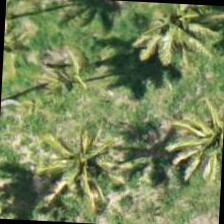Kelapa_Sawit: (40, 105, 134, 200), (132, 1, 223, 69), (173, 86, 223, 180)
